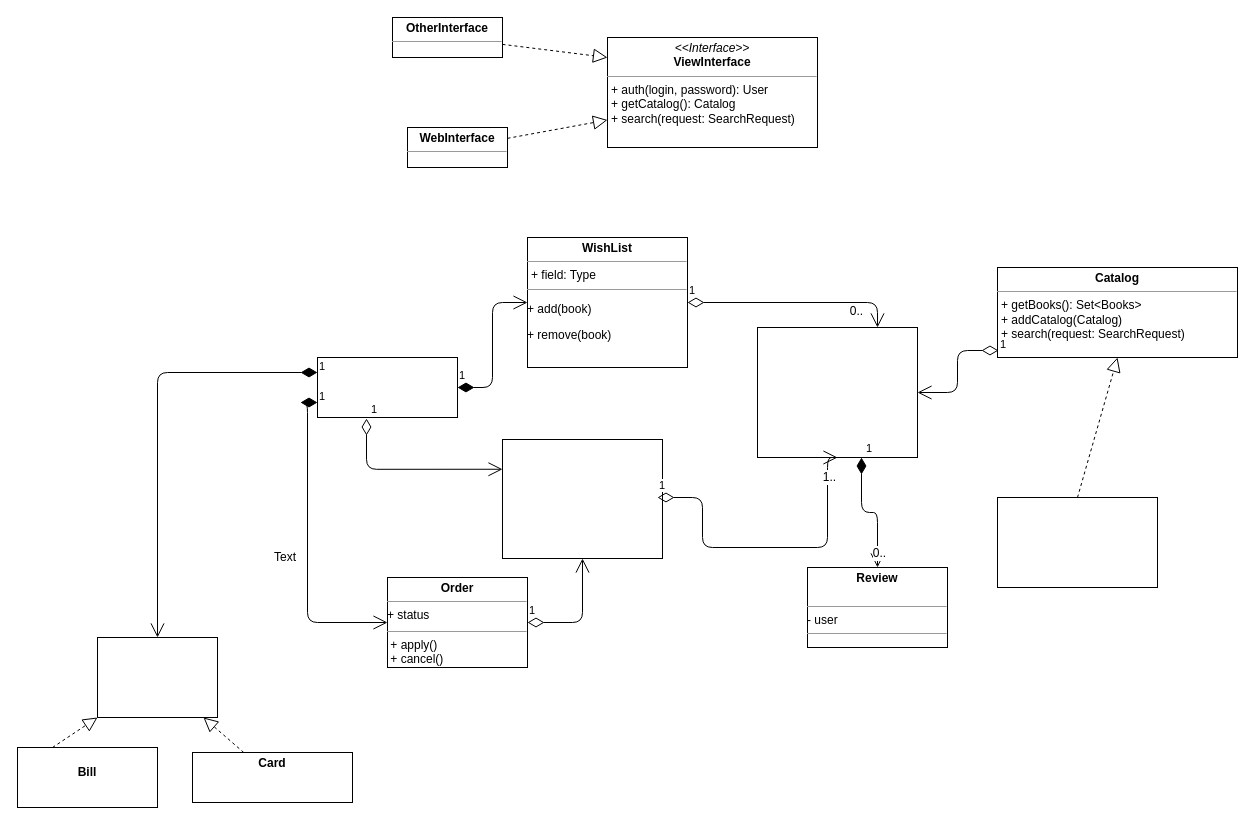
Image size: 1255x833. Some labels were removed from this diagram. Here are the shapes that lost their labels. From the top down, the box of each, then its label:
(316, 356, 458, 418): User + name
(756, 326, 918, 458): Book + author + tittle + keyWords + description
(502, 438, 662, 558): ShopList + add(book) + remove(book)
(996, 496, 1158, 588): XMLCatalog + field: Type + method(): Type
(96, 636, 218, 718): <<Interface>> PaymentMethod + pay()
